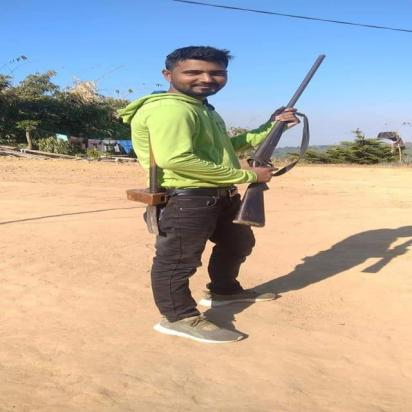Gun: (229, 54, 328, 229)
